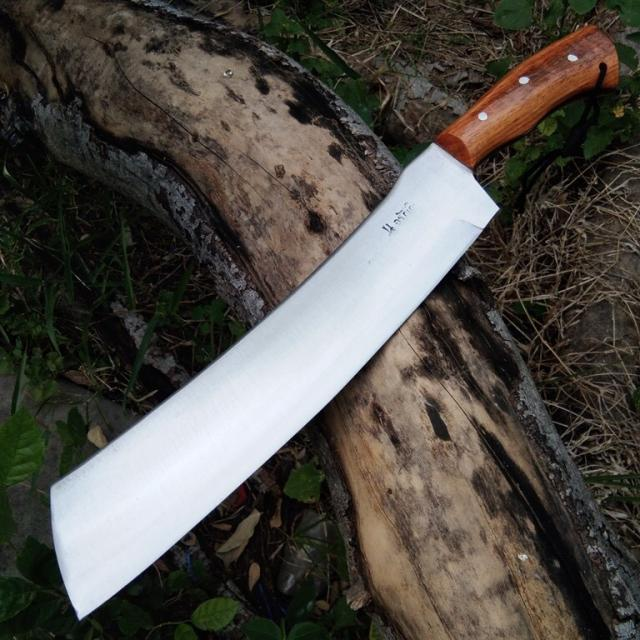eto: (46, 21, 625, 626)
